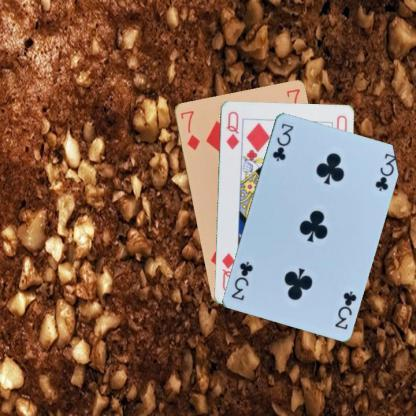3c: (332, 288, 358, 330), (269, 121, 295, 162)
7d: (177, 107, 201, 151)
Qd: (223, 108, 240, 150)
